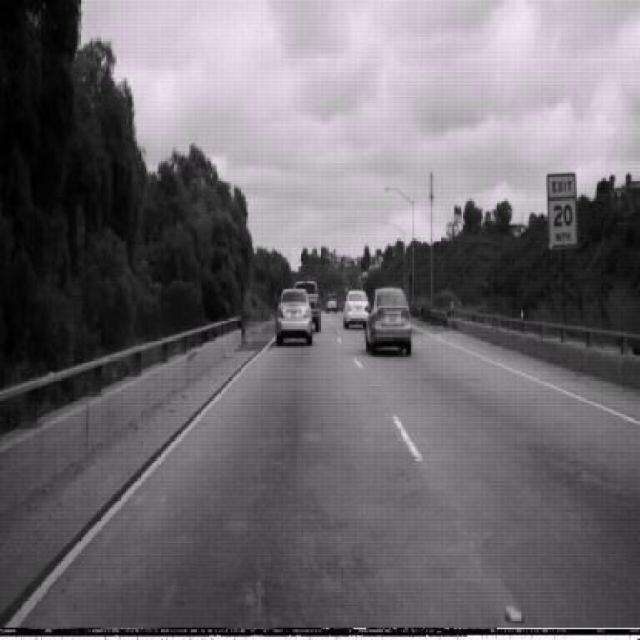rampSpeedAdvisory20: (546, 171, 578, 251)
